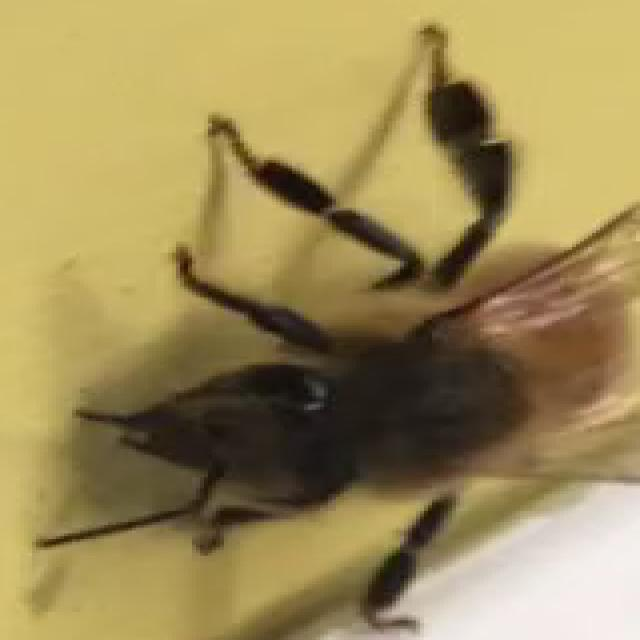honeybee: (79, 152, 640, 624)
